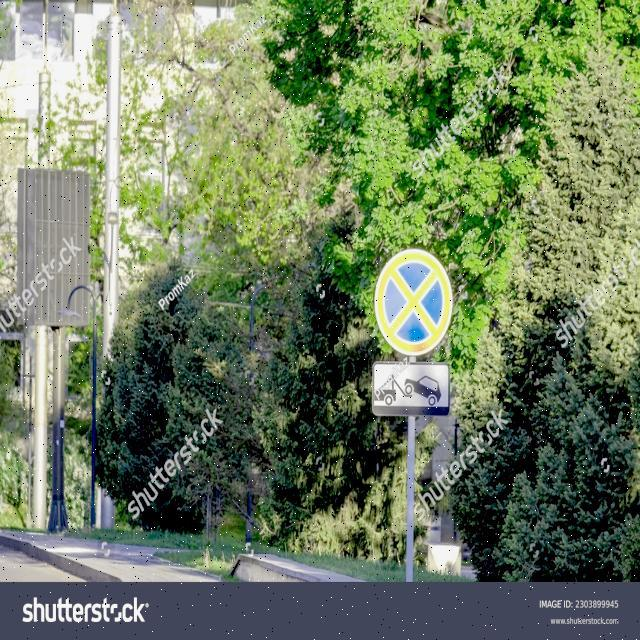Traffic sign: (364, 242, 456, 422)
